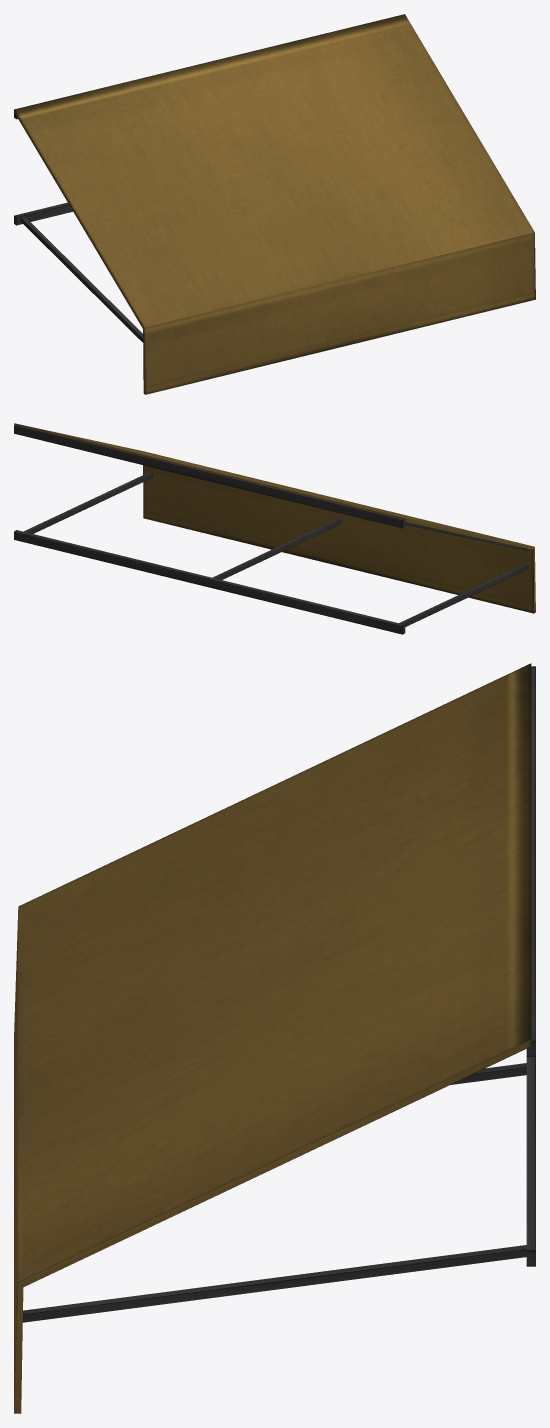
File: ds_canopy_3_A.FBX
3 views of the same model, one above another, from view 1: azimuth 30°, elevation 25°; view 2: azimuth 150°, elevation 25°; view 3: azimuth 270°, elevation 25° (orthographic). The views are drawn at different scales.
Parts seen in each view (by area): view 1: ds_canopy_3_A; view 2: ds_canopy_3_A; view 3: ds_canopy_3_A.
Boxes of the visible parts, <box> form: ds_canopy_3_A: <box>14,14,535,394</box>; ds_canopy_3_A: <box>14,423,535,634</box>; ds_canopy_3_A: <box>14,663,535,1413</box>.
Bounding box in the file's own units: 10.08 × 5.91 × 4.68.
